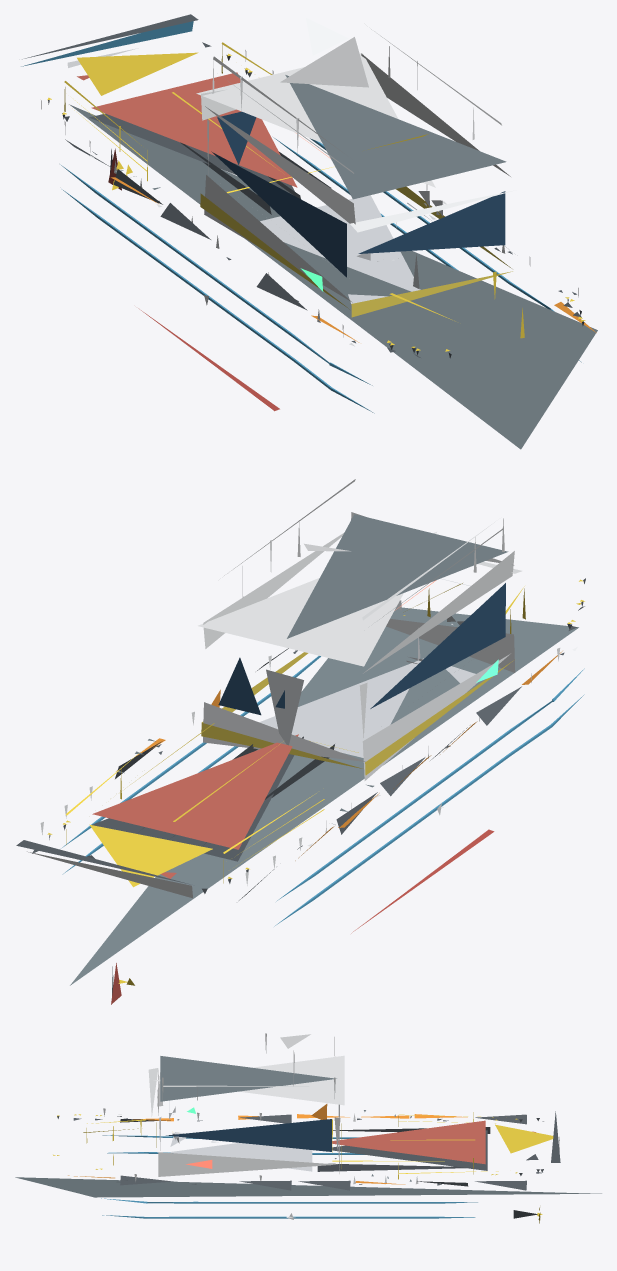
Rendered from ship_03.glb.
The picture shows the model from 3 angles, top to bottom: view 1: azimuth 30°, elevation 25°; view 2: azimuth 150°, elevation 25°; view 3: azimuth 270°, elevation 25°; orthographic projection. The views are drawn at different scales.
Visible parts, largest first — view 1: TrueHelm_Ship_03; view 2: TrueHelm_Ship_03; view 3: TrueHelm_Ship_03.
Part boxes in pixels (box(x1,y1,x2,y2)): TrueHelm_Ship_03: box(21, 14, 597, 449); TrueHelm_Ship_03: box(16, 479, 585, 1004); TrueHelm_Ship_03: box(15, 1033, 601, 1223).
Bounding box in the file's own units: 0.1255 × 0.1587 × 0.4458.
